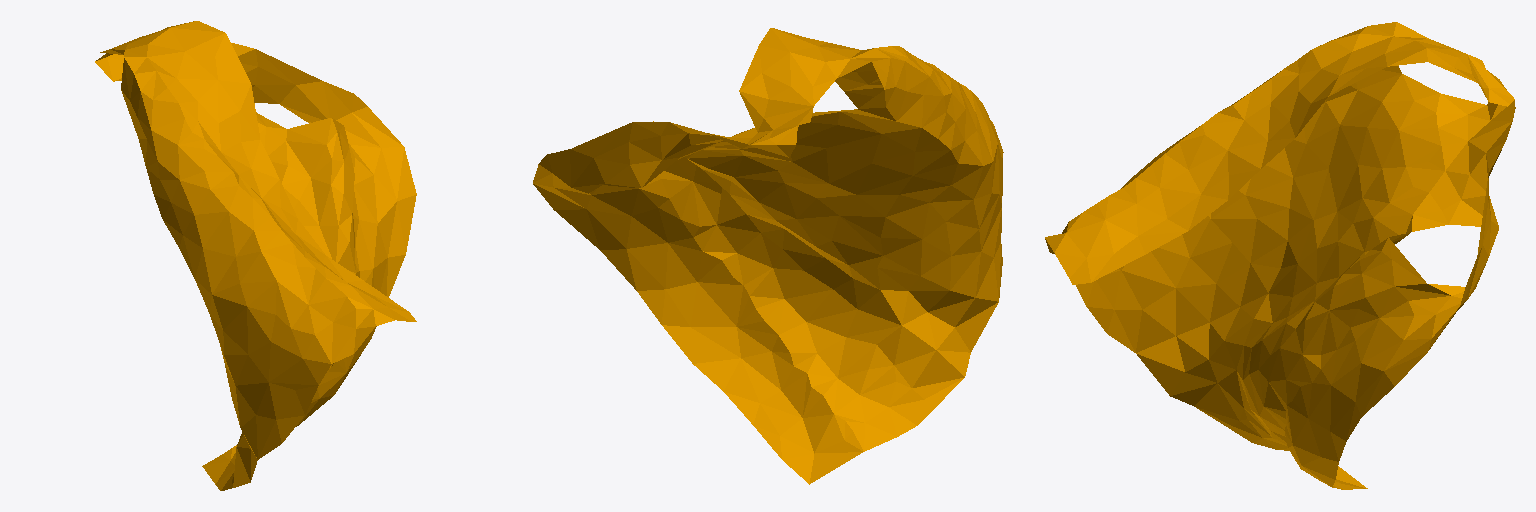
URDF robot description (init):
<?xml version='1.0' encoding='utf-8'?>
<robot name="init">
<link name="link_0"><inertial><mass value="1.0" /><origin rpy="0 0 0" xyz="0.000000 0.000000 0.000000" /><inertia ixx="1.0" ixy="0.0" ixz="0.0" iyy="1.0" iyz="0.0" izz="1.0" /></inertial><visual><origin rpy="0 0 0" xyz="0.000000 0.000000 0.000000" /><geometry><mesh filename="./clothHuman/cloth/1588.obj" /></geometry></visual><collision><origin rpy="0 0 0" xyz="0.000000 0.000000 0.000000" /><geometry><mesh filename="./clothHuman/cloth/1588.obj" /></geometry></collision></link></robot>

--- What the picture shows (computed from the rendered views, not written in the file) ---
The picture shows the robot from 3 angles, left to right: view 1: azimuth 30°, elevation 25°; view 2: azimuth 150°, elevation 25°; view 3: azimuth 270°, elevation 25°; orthographic projection.
Model init with 1 links and 0 joints (none), rooted at link_0, posed all joints at 0.
Visible links, largest first — view 1: link_0; view 2: link_0; view 3: link_0.
Link boxes in pixels (<box>): link_0: <box>95,21,416,490</box>; link_0: <box>533,28,1003,484</box>; link_0: <box>1045,22,1515,489</box>.
Bounding box of the posed robot: 2.71 × 3.4 × 3.47 m (x, y, z).
Meshes: 1 distinct files referenced, 1 mesh visuals loaded (1 OBJ).